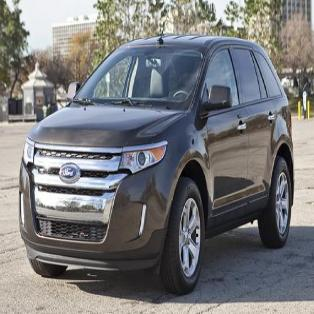Auto: (16, 8, 295, 294)
